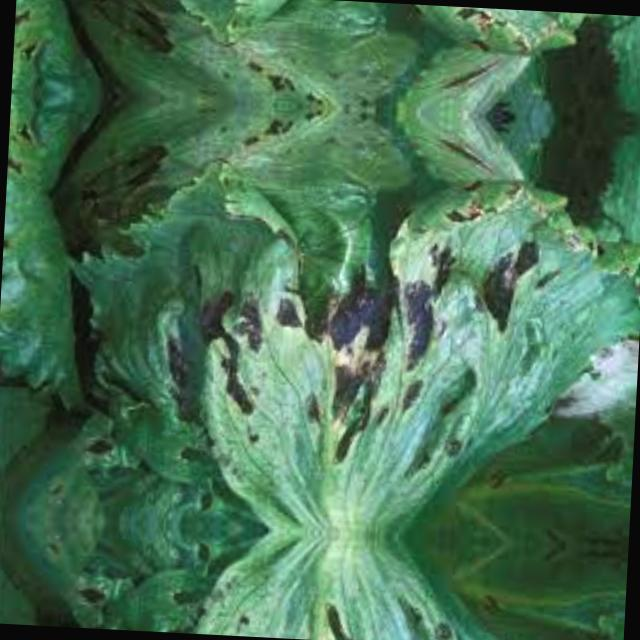Lettuce - Anthracnose: (0, 90, 640, 549), (11, 0, 640, 124), (0, 516, 628, 640)
